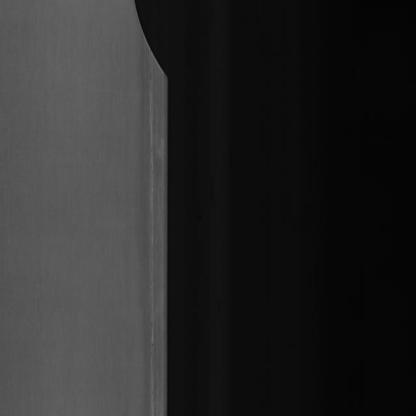crescent_gap: (129, 0, 174, 93)
